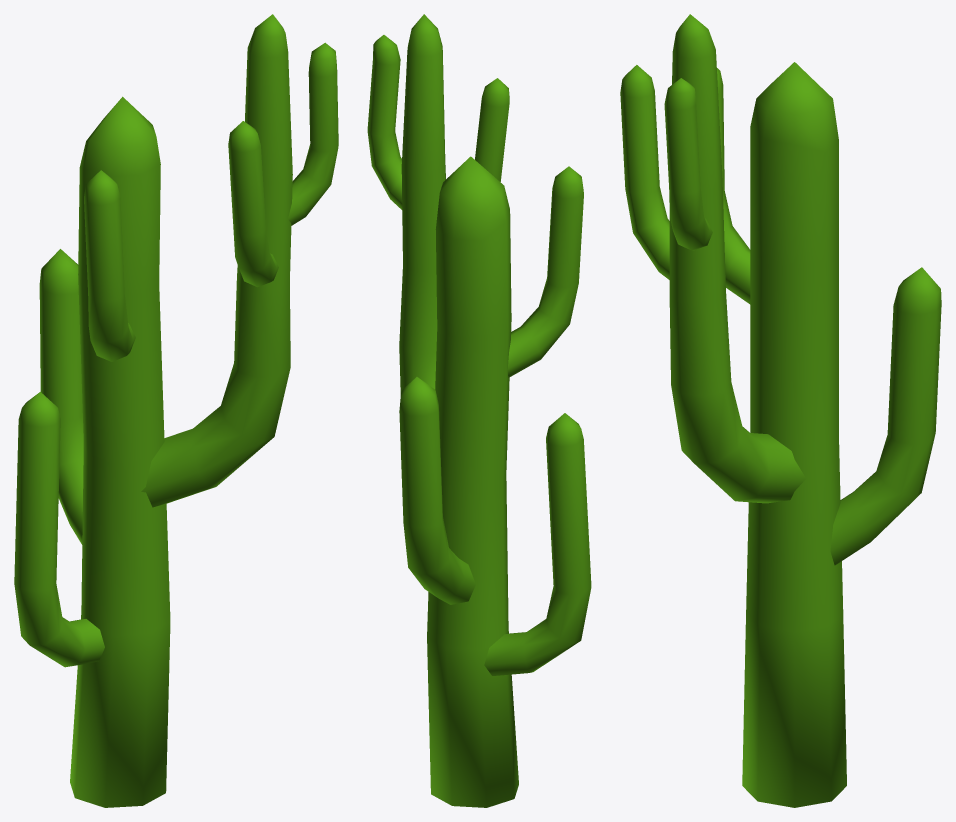
Rendered from Cactus_Green_Smooth_1.fbx.
The picture shows the model from 3 angles, left to right: view 1: azimuth 30°, elevation 25°; view 2: azimuth 150°, elevation 25°; view 3: azimuth 270°, elevation 25°; orthographic projection. The views are drawn at different scales.
Parts seen in each view (by area): view 1: Cactus; view 2: Cactus; view 3: Cactus.
Boxes of the visible parts, box(x1,y1,x2,y2) form: Cactus: box(14, 14, 338, 807); Cactus: box(367, 14, 591, 807); Cactus: box(620, 14, 941, 807).
Bounding box in the file's own units: 157 × 421 × 148.
